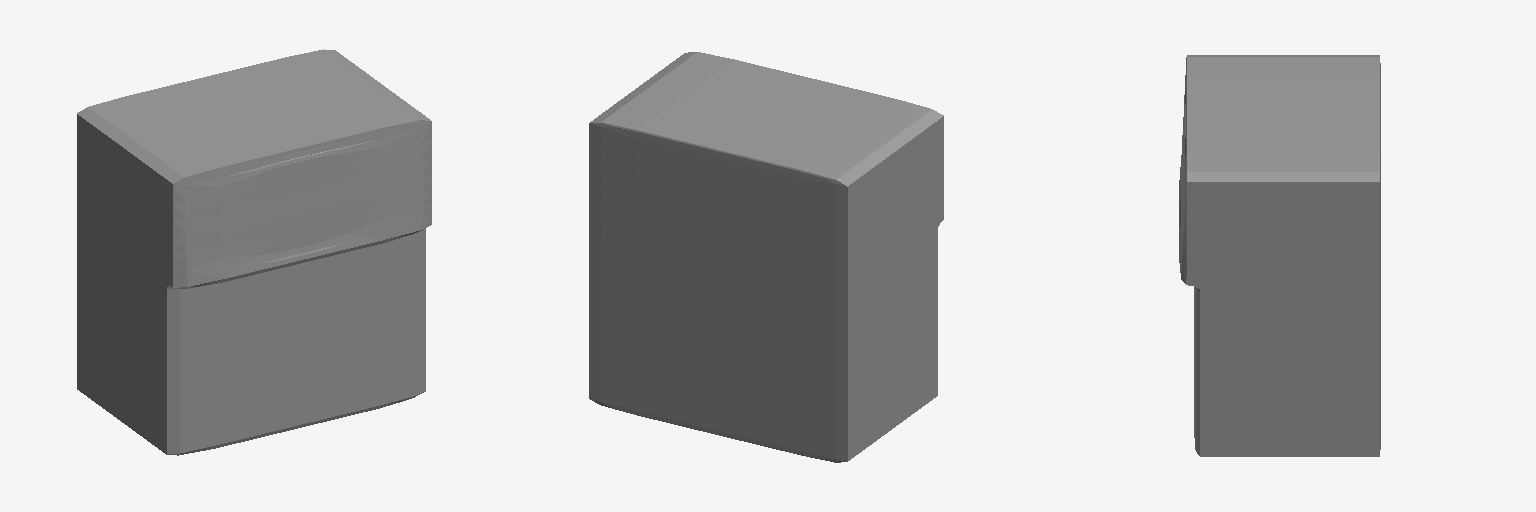
File: item_healthkit.obj
3 views of the same model, side by side, from view 1: azimuth 30°, elevation 25°; view 2: azimuth 150°, elevation 25°; view 3: azimuth 270°, elevation 25° (orthographic).
Visible parts, largest first — view 1: Cube_Cube.001; view 2: Cube_Cube.001; view 3: Cube_Cube.001.
Boxes of the visible parts, box(x1,y1,x2,y2) form: Cube_Cube.001: box(77, 49, 431, 455); Cube_Cube.001: box(589, 52, 943, 462); Cube_Cube.001: box(1179, 55, 1380, 456).
Bounding box in the file's own units: 0.1958 × 0.2062 × 0.1318.